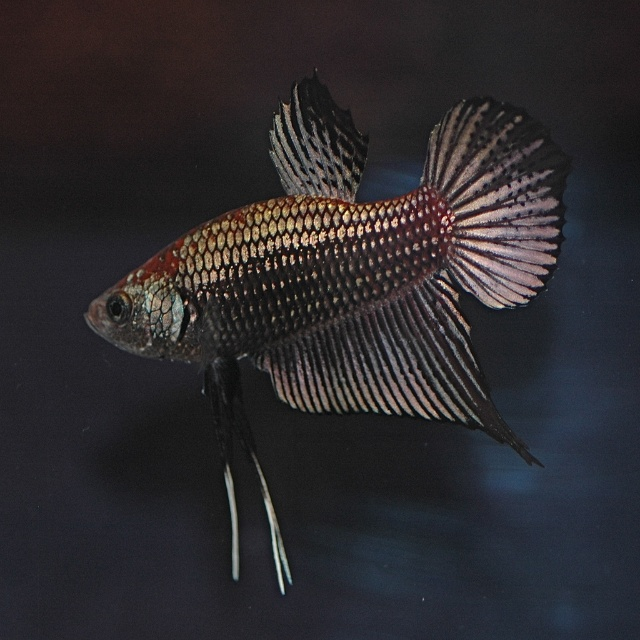Fish: (86, 69, 571, 545)
